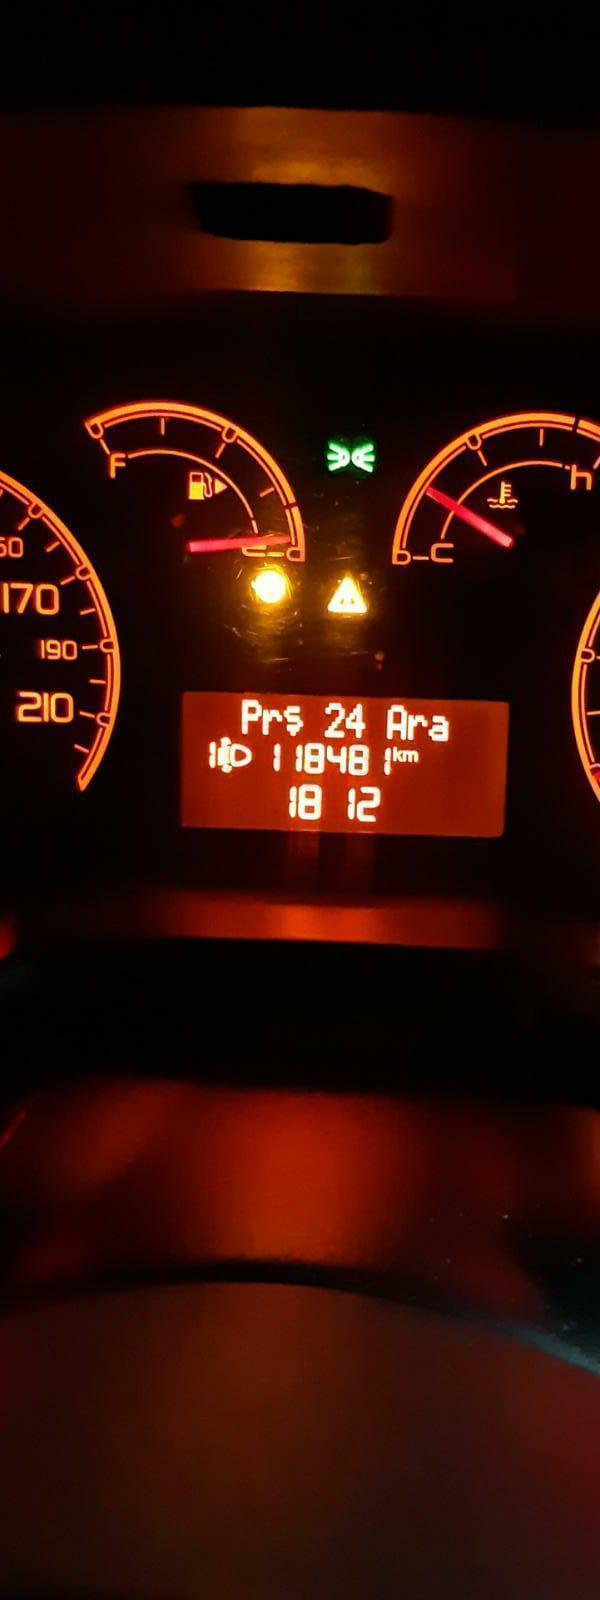1: (284, 781, 297, 823), (346, 785, 357, 824), (206, 737, 217, 772), (271, 741, 283, 772), (383, 745, 391, 781), (294, 741, 302, 776)
2: (357, 784, 383, 823), (322, 699, 345, 740)
4: (346, 701, 368, 740), (326, 743, 347, 776)
8: (298, 782, 323, 824), (304, 741, 326, 776), (349, 743, 369, 776)
X: (283, 702, 306, 737), (240, 697, 261, 735), (386, 703, 407, 740), (262, 705, 282, 737), (429, 714, 449, 744), (407, 712, 427, 741), (403, 748, 419, 764), (392, 743, 402, 762)
odometer: (174, 686, 516, 847)
